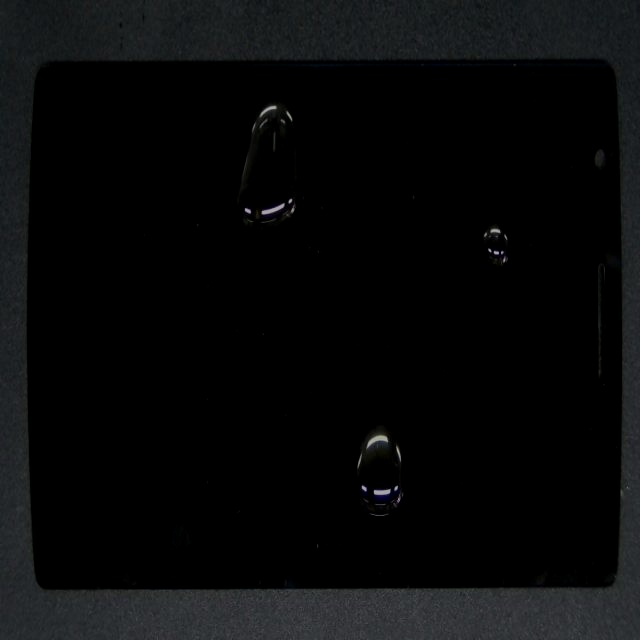oil: (216, 250, 596, 640), (239, 104, 640, 327), (154, 135, 454, 256)
